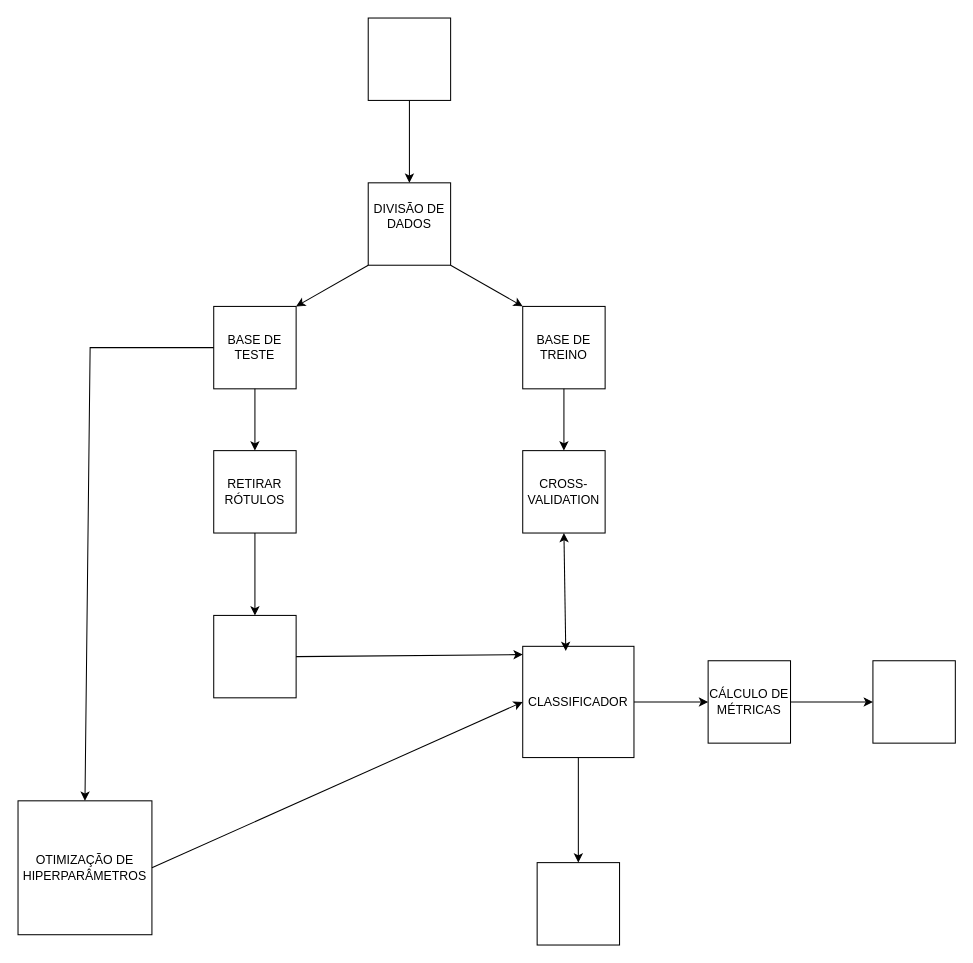
This 973x963 diagram has some shape labels left out. Here are the shapes that lost their labels. From the top down, the box of each, then its label:
(367, 17, 451, 100): BASE DE DADOS
(213, 614, 296, 698): BASE DE TESTE SEM RÓTULOS
(872, 660, 955, 743): RELATÓRIO FINAL
(536, 862, 620, 945): DEPLOY DO MODELO
